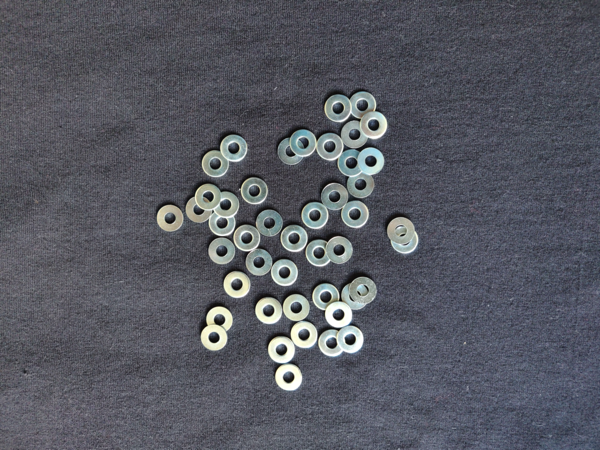circles: (232, 221, 262, 254), (201, 148, 231, 181), (205, 304, 235, 337), (275, 361, 305, 394), (312, 281, 342, 314), (386, 214, 416, 247), (320, 181, 350, 214), (315, 130, 345, 163), (324, 91, 354, 124), (155, 203, 185, 235), (194, 182, 224, 214), (213, 189, 243, 221), (208, 207, 238, 239), (207, 234, 237, 266), (255, 207, 285, 239), (240, 175, 270, 207), (244, 247, 274, 279), (200, 322, 230, 354), (289, 319, 319, 351), (270, 257, 300, 289), (324, 299, 354, 331), (317, 327, 347, 359), (340, 280, 370, 312), (305, 237, 335, 269), (300, 199, 330, 231), (340, 198, 370, 230), (346, 170, 376, 202), (276, 135, 306, 167), (288, 127, 318, 159), (336, 147, 366, 179), (357, 146, 387, 178), (340, 119, 370, 151), (360, 110, 390, 142), (348, 89, 378, 121), (184, 193, 213, 226), (254, 294, 283, 327), (267, 333, 296, 366), (324, 234, 353, 267), (391, 224, 420, 257), (220, 133, 249, 165), (223, 269, 252, 301), (282, 293, 311, 325), (336, 324, 365, 356), (349, 276, 378, 308), (280, 224, 309, 256)
